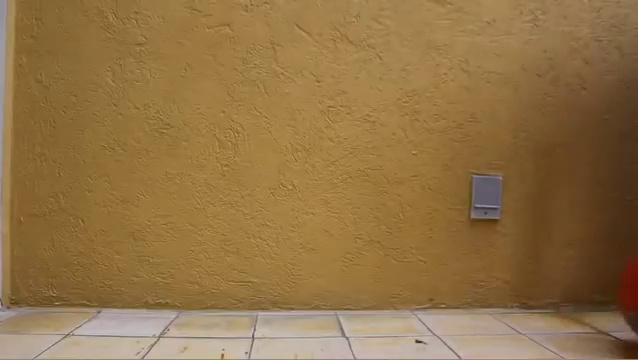ball: (618, 251, 638, 337)
